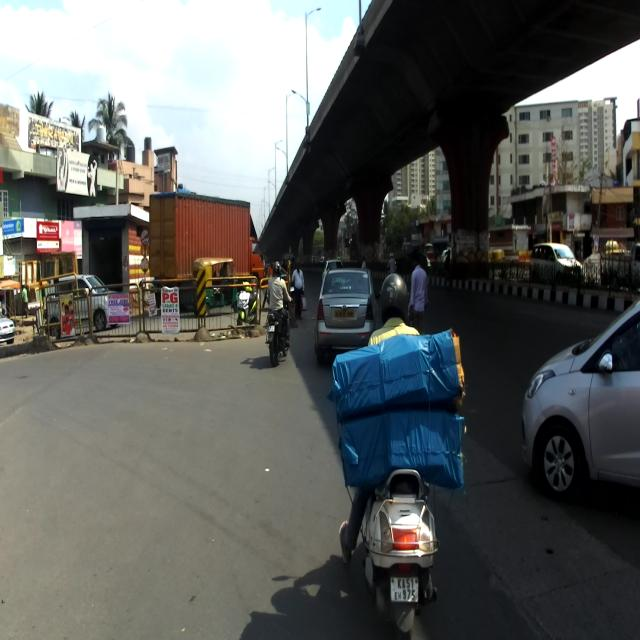barrier ahead at: (154, 277, 200, 343), (90, 287, 141, 334), (43, 285, 89, 336)
car ahead at: (523, 288, 640, 538)
motorcycle ahead at: (357, 468, 447, 632)
